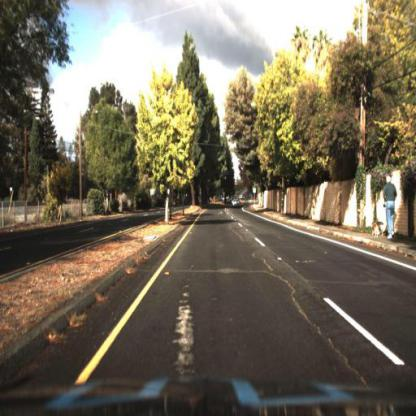car: (232, 198, 241, 210)
pedestrian: (384, 178, 398, 242)
